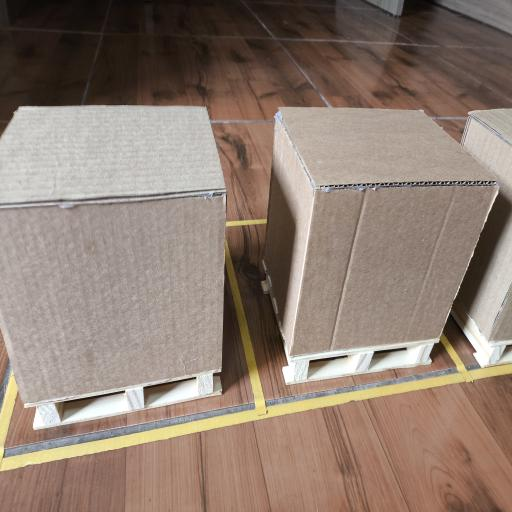pallet: (262, 273, 438, 384), (34, 374, 221, 429), (451, 299, 511, 367)
